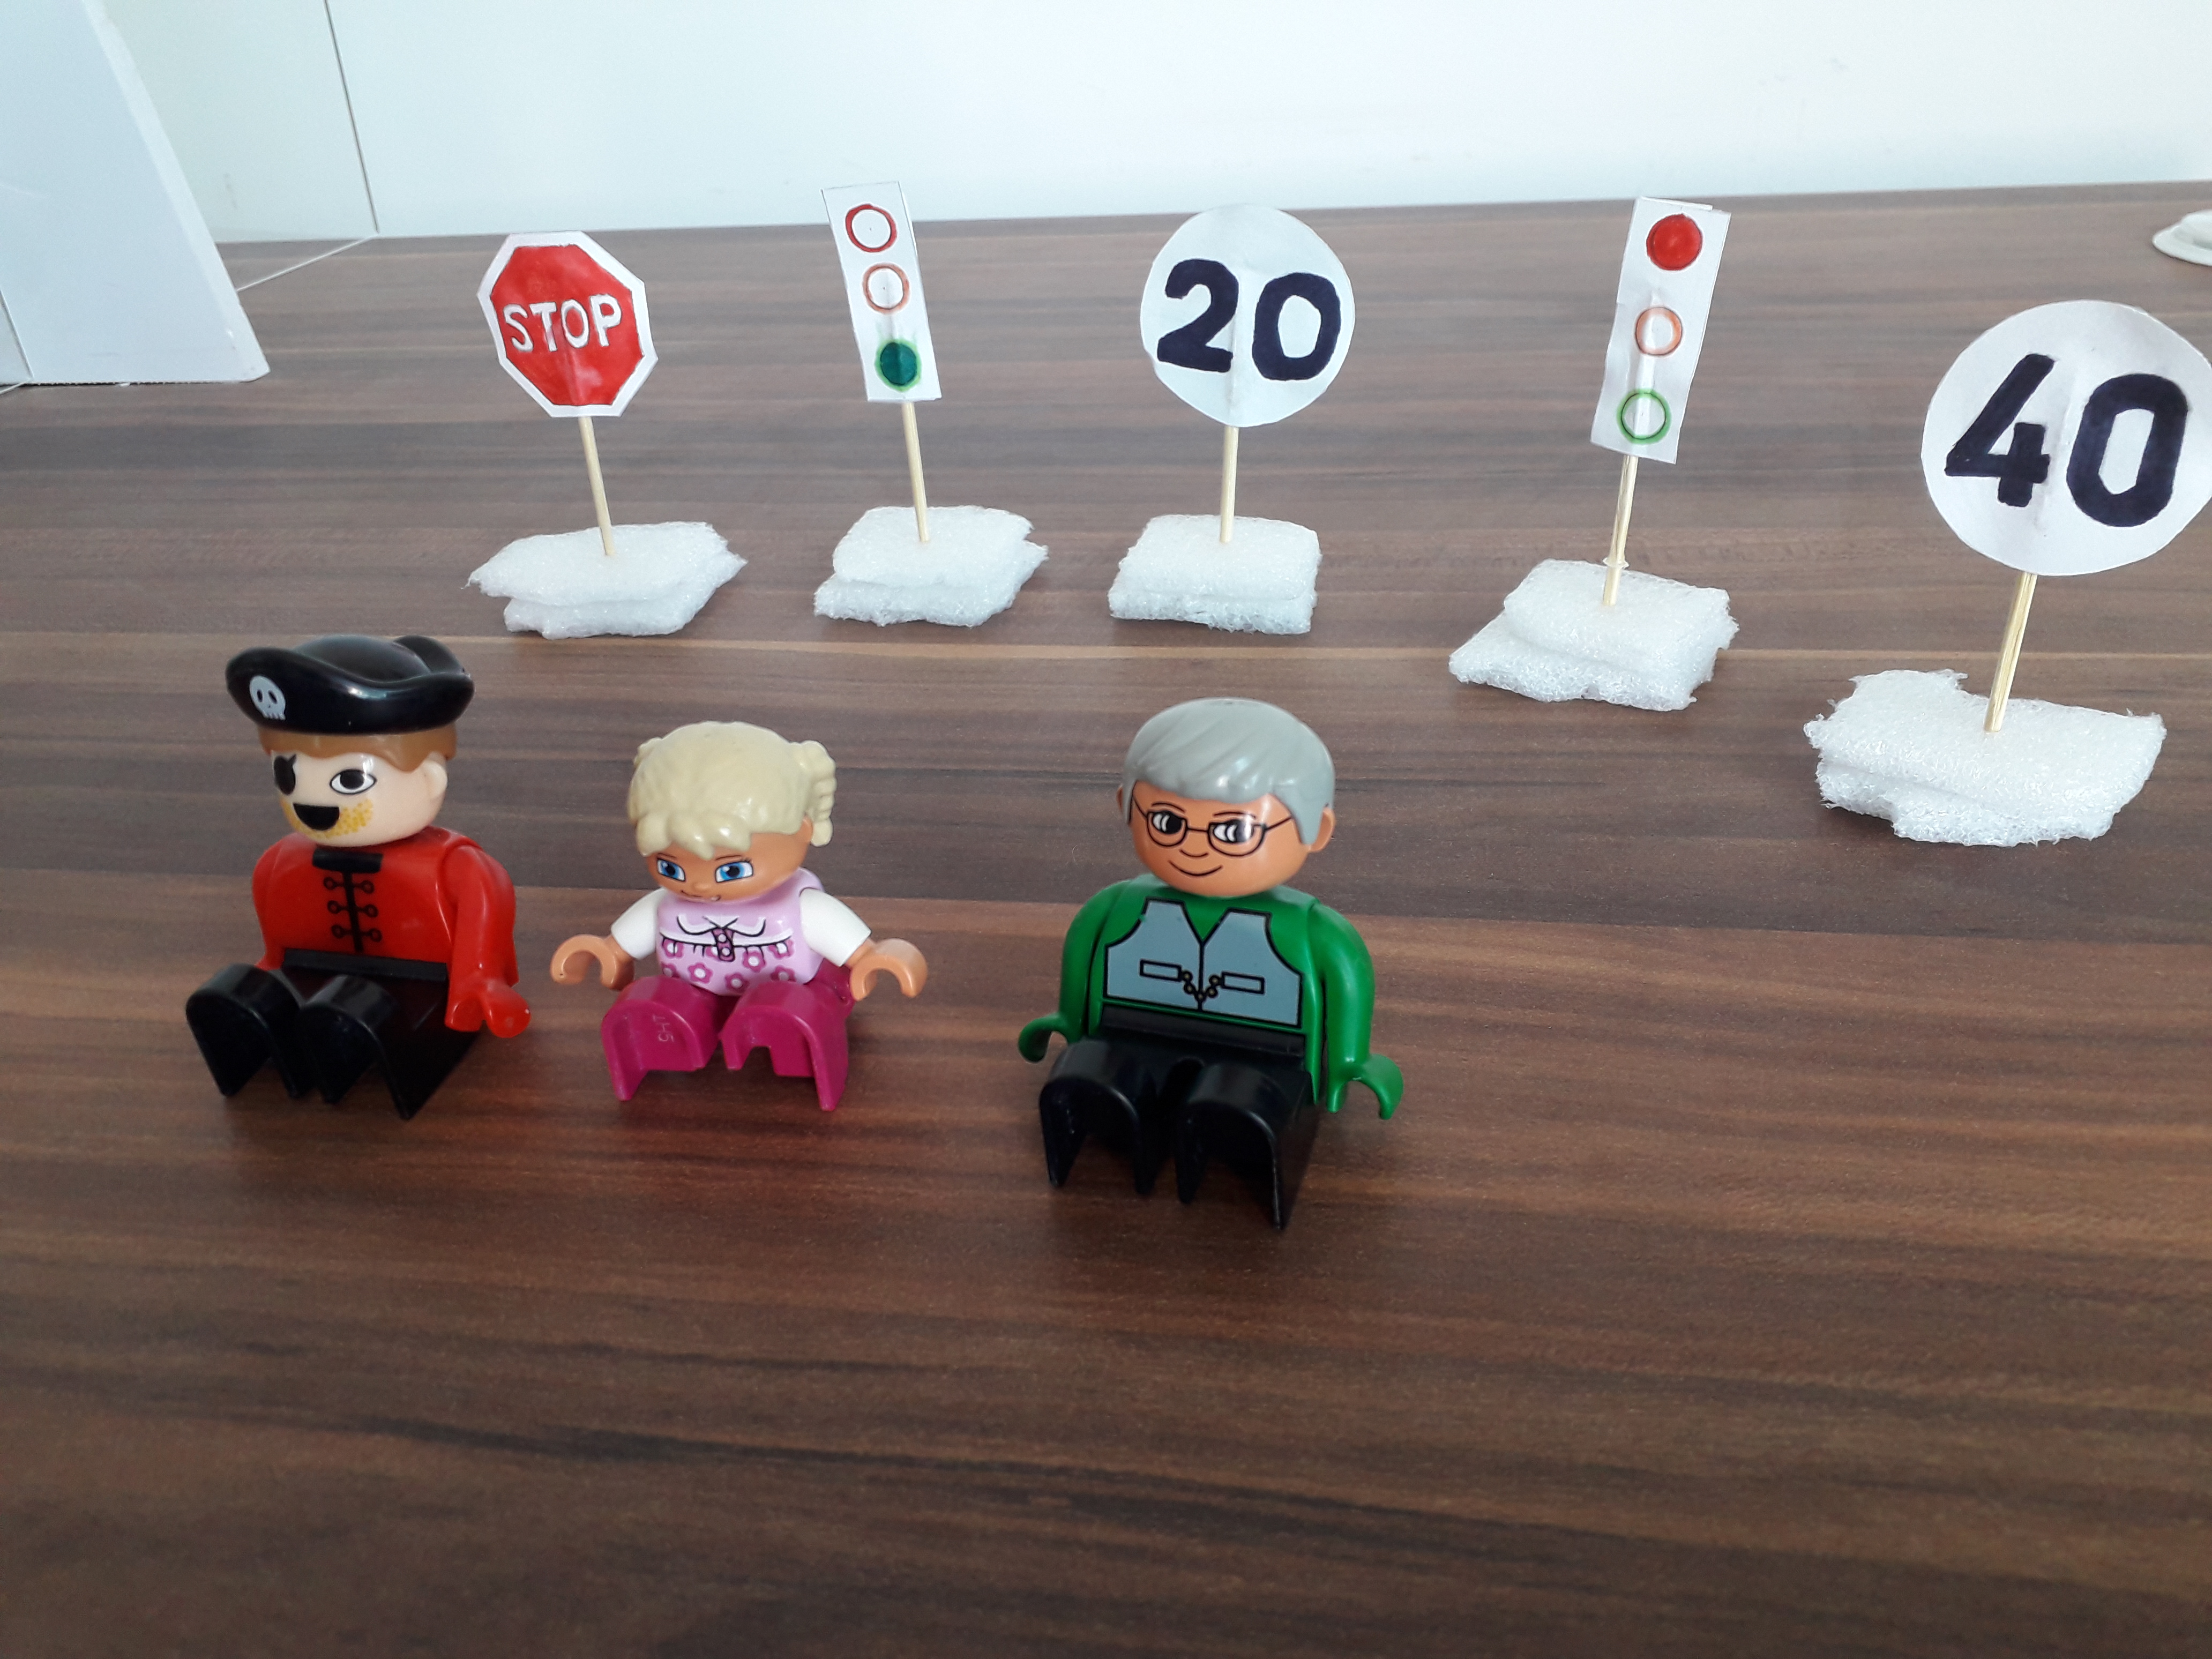20_sign: (1135, 206, 1362, 429)
40_sign: (1921, 296, 2212, 585)
green_light: (809, 186, 952, 403)
person: (1013, 691, 1411, 1232), (173, 627, 538, 1117), (551, 714, 939, 1112)
red_light: (1595, 196, 1722, 469)
stop_sign: (469, 227, 663, 423)
